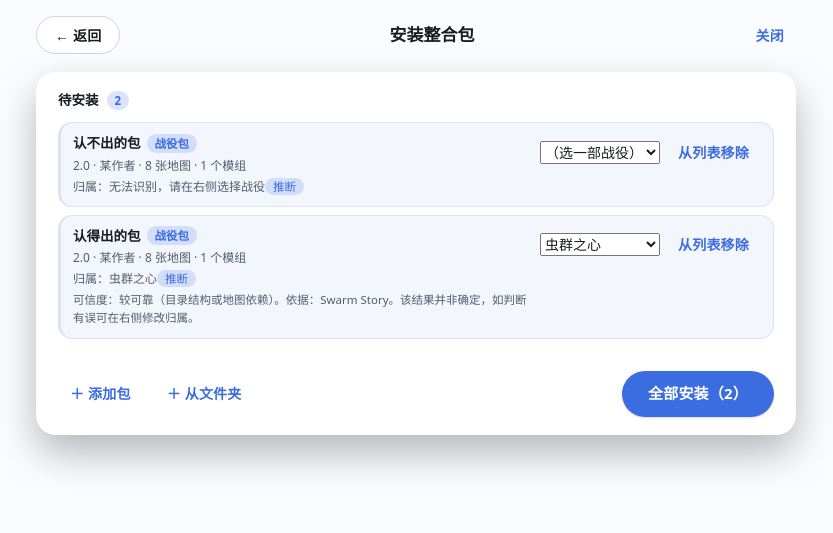
批量安装 › 认不出归属的那行：没选战役就只算它失败，别的照装
What coordinates should you click on to do the following:
click the button "全部安装（2）"
I would click on:
 (698, 394)
Its box is [622,370,774,416].
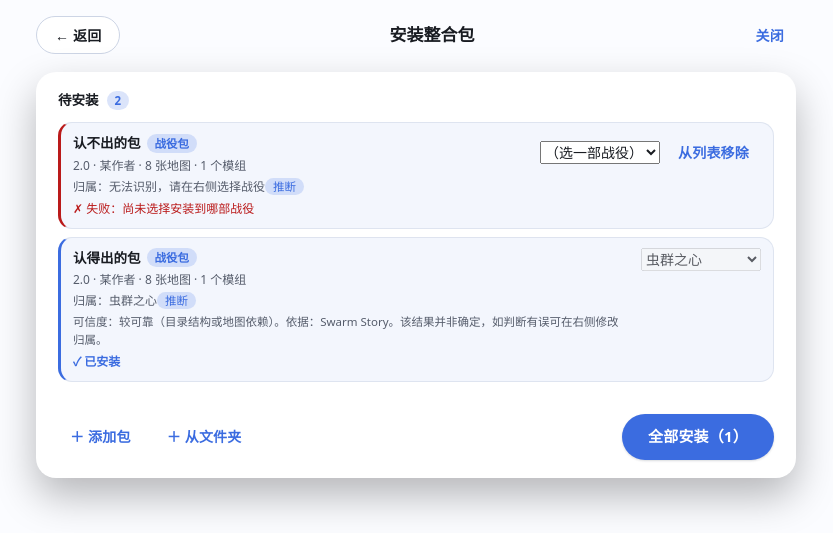
Expected: the text "尚未选择安装到哪部战役" is shown, [122,200,254,216]
